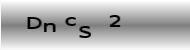2: (108, 14, 122, 28)
D: (25, 16, 42, 29)
S: (78, 25, 93, 39)
c: (63, 16, 77, 26)
n: (43, 22, 57, 33)
